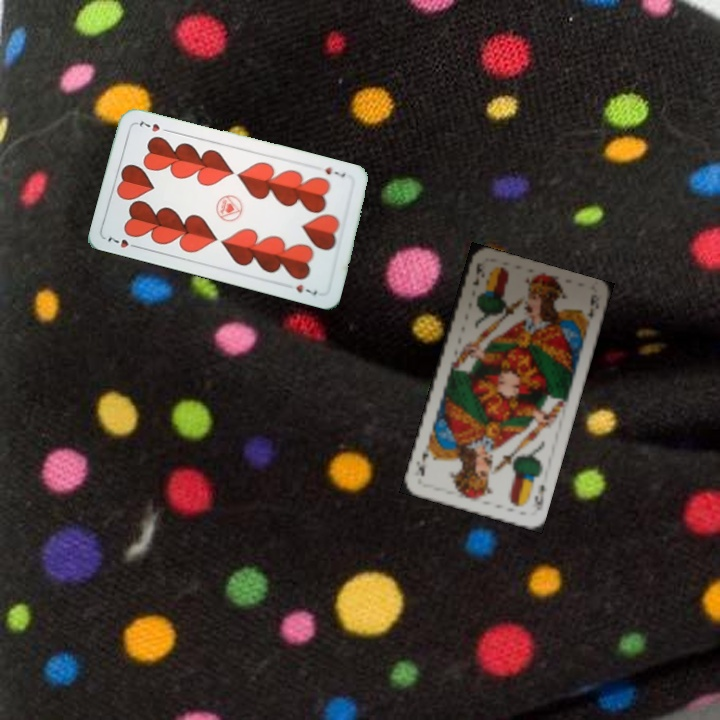EK: (527, 480, 548, 513), (468, 259, 488, 288)
H7: (103, 233, 142, 251), (321, 163, 348, 180)
